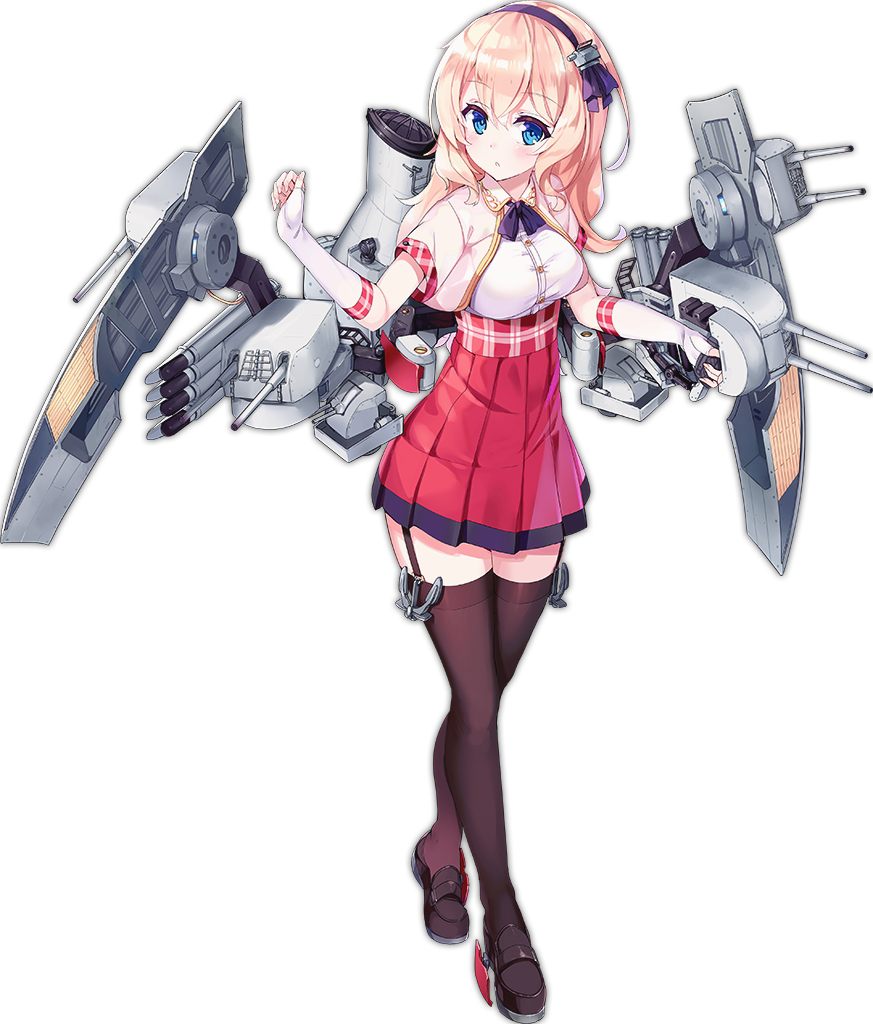person: (266, 1, 619, 848)
